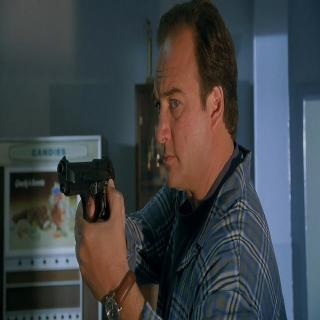gun: (52, 145, 124, 256)
